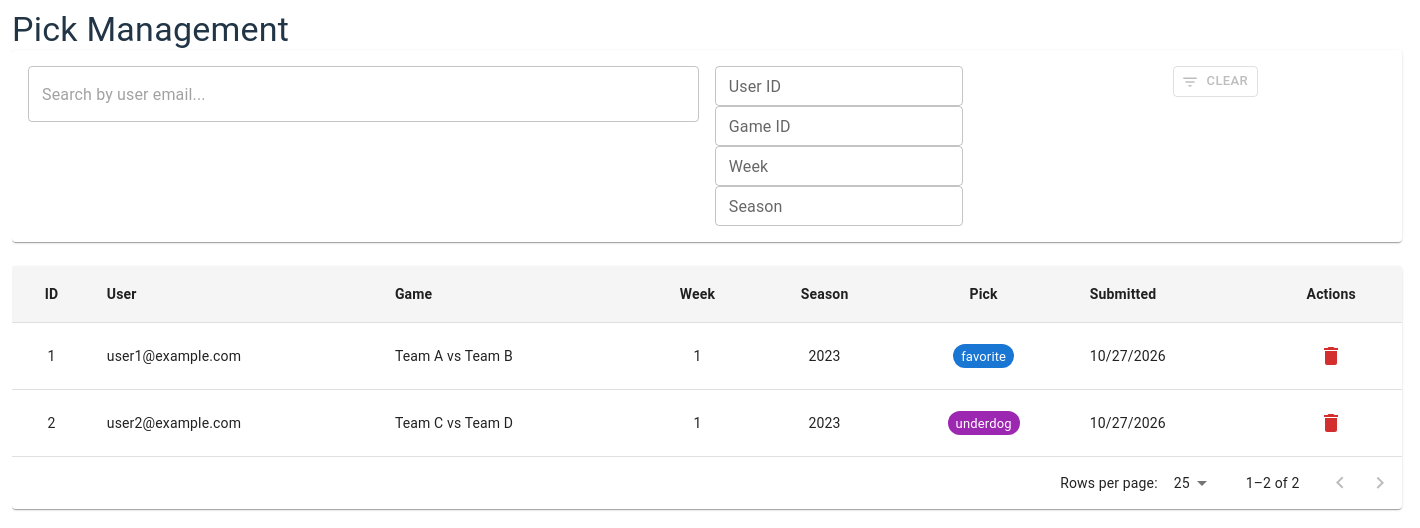
Test: AdminPicksPage (Integration) › should show an empty message when client-side search yields no results
Type "nonexistent" into the field with placeholder "Search by user email...".
click(363, 94); type("nonexistent")  # box [28, 66, 699, 122]
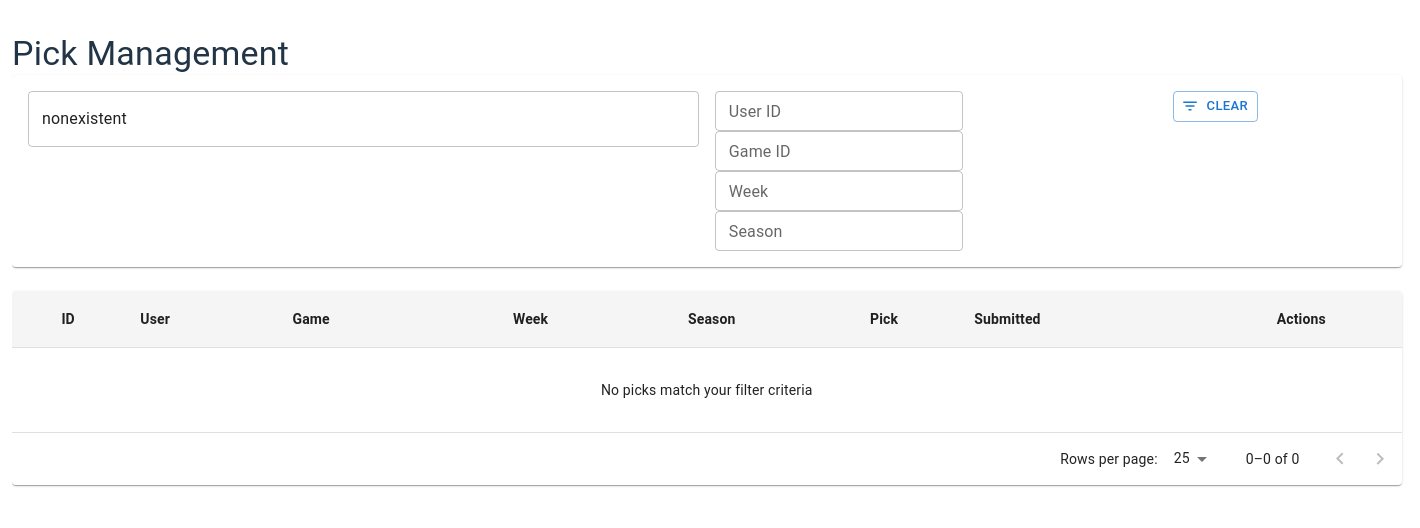
expect the text "No picks match your filter criteria" is shown: met, box [601, 382, 813, 398]
